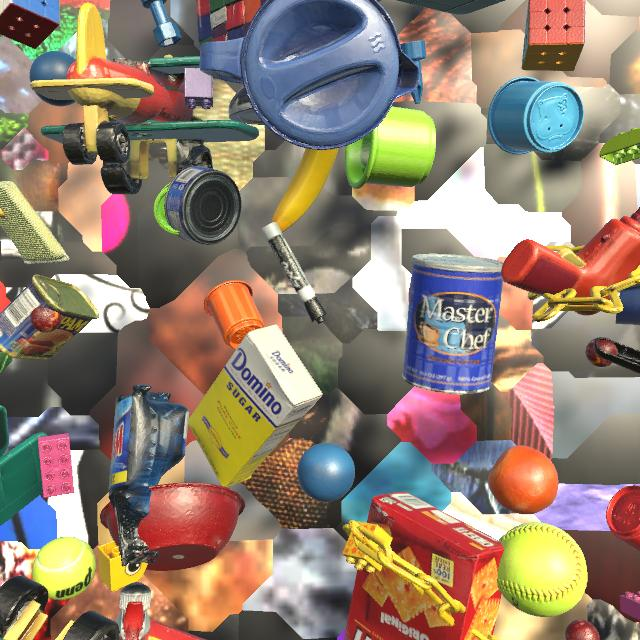ycb_002_master_chef_can: (402, 254, 503, 394)
ycb_003_cracker_box: (344, 492, 504, 640), (144, 620, 206, 640)
ycb_004_sugar_box: (188, 324, 323, 487)
ycb_006_mustard_bottle: (0, 209, 5, 218)
ycb_007_tuna_fish_can: (164, 166, 242, 245)
ycb_010_potted_meat_can: (0, 274, 100, 360)
ycb_011_banana: (271, 148, 339, 232)
ycb_013_apple: (408, 282, 411, 304)
ycb_017_orange: (488, 445, 558, 515)
